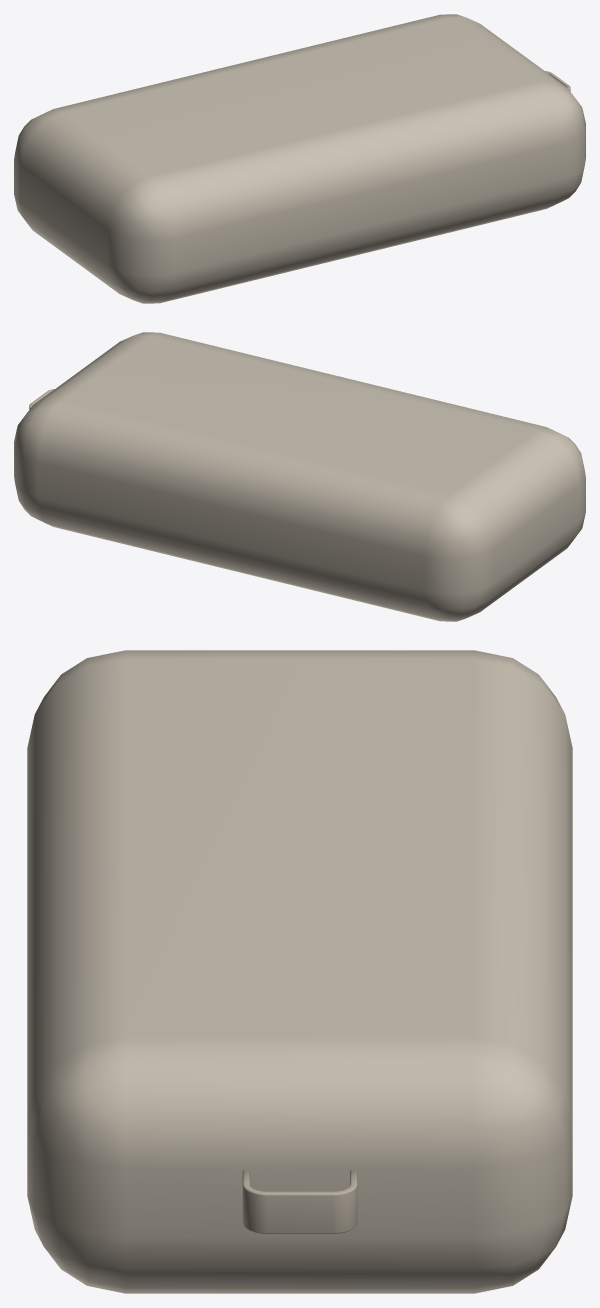
The model's file is manduka-enlight-rectangular-bolster_v001.glb.
3 views of the same model, one above another, from view 1: azimuth 30°, elevation 25°; view 2: azimuth 150°, elevation 25°; view 3: azimuth 270°, elevation 25° (orthographic). The views are drawn at different scales.
Parts seen in each view (by area): view 1: manduka-enlight-rectangular-bolster_canvas; view 2: manduka-enlight-rectangular-bolster_canvas; view 3: manduka-enlight-rectangular-bolster_canvas, manduka-enlight-rectangular-bolster_seam.
Part boxes in pixels (bbox=[...]): manduka-enlight-rectangular-bolster_canvas: bbox=[14, 14, 585, 303]; manduka-enlight-rectangular-bolster_canvas: bbox=[14, 332, 585, 621]; manduka-enlight-rectangular-bolster_canvas: bbox=[27, 650, 572, 1293]; manduka-enlight-rectangular-bolster_seam: bbox=[242, 1170, 357, 1233].
Bounding box in the file's own units: 0.6416 × 0.1524 × 0.3048.
